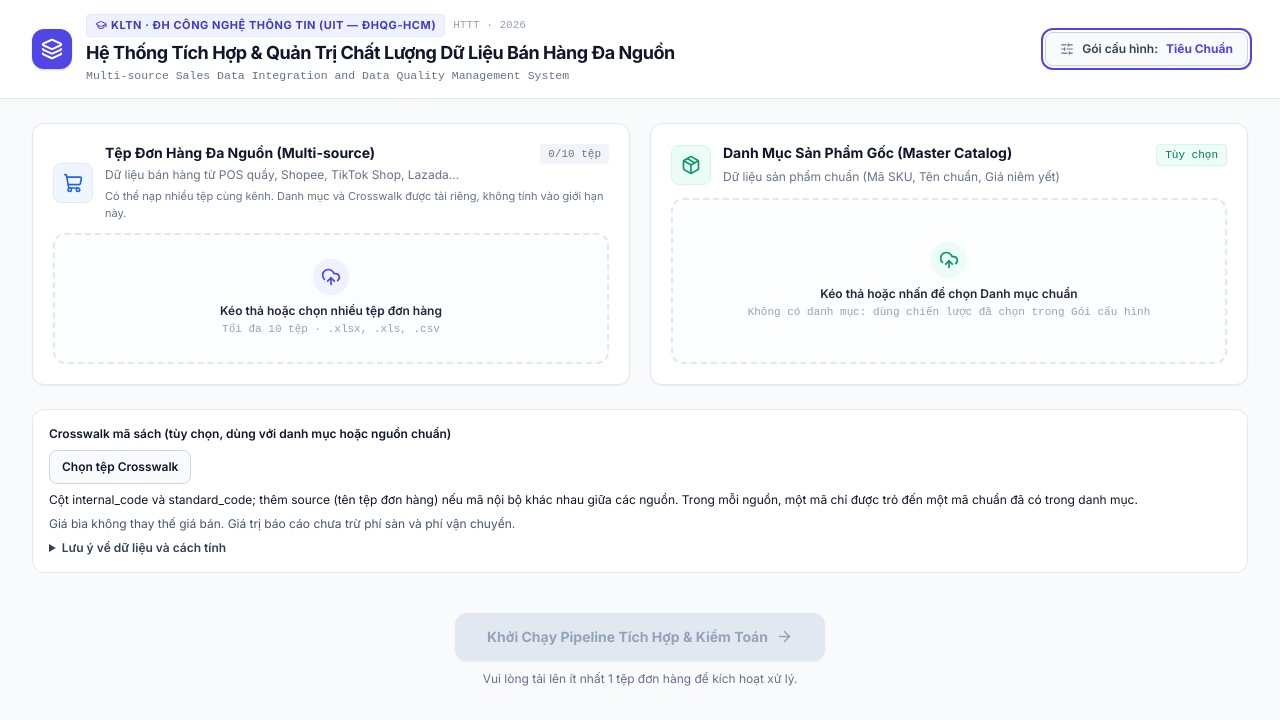
Test: Configuration UI interactions › traps keyboard focus, cancels with Escape, restores focus and body scroll
Click the button "Gói cấu hình: Tiêu Chuẩn": (1147, 49) [1045, 32, 1248, 66]
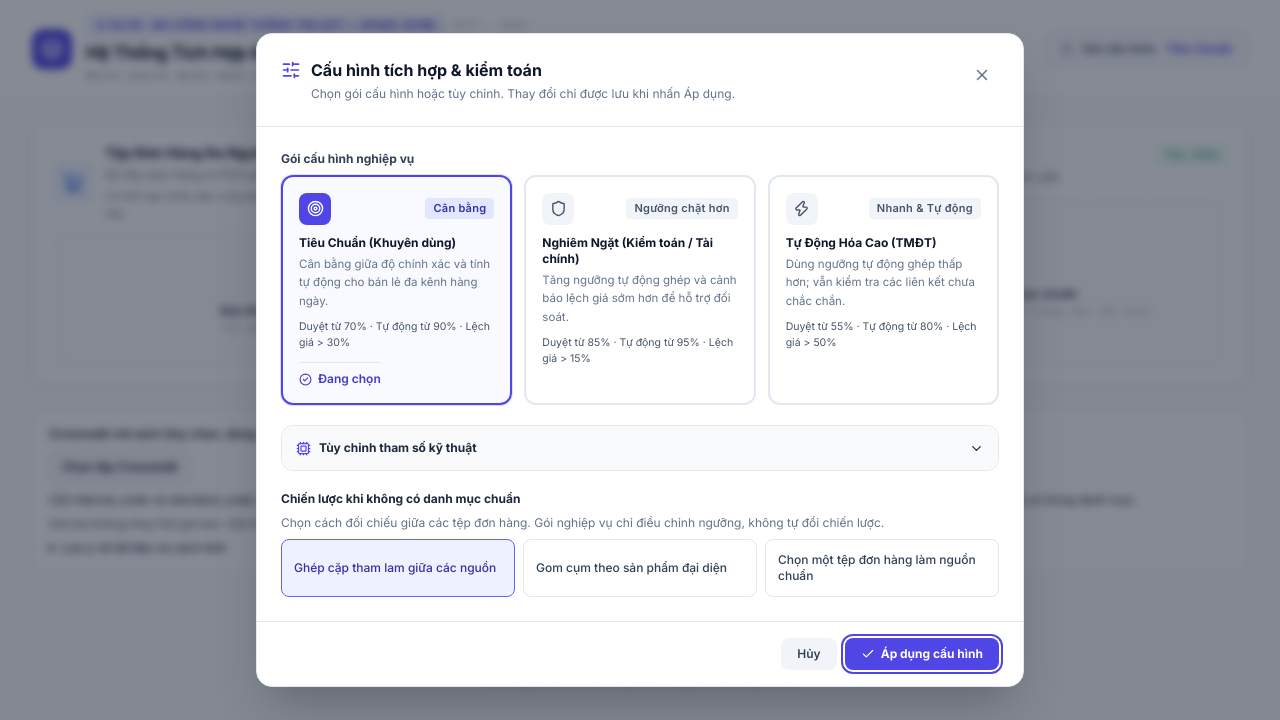
Now the button with aria-label "Nghiêm Ngặt (Kiểm toán / Tài chính)" is shown
Click the button with aria-label "Nghiêm Ngặt (Kiểm toán / Tài chính)": (640, 290) [524, 175, 756, 405]
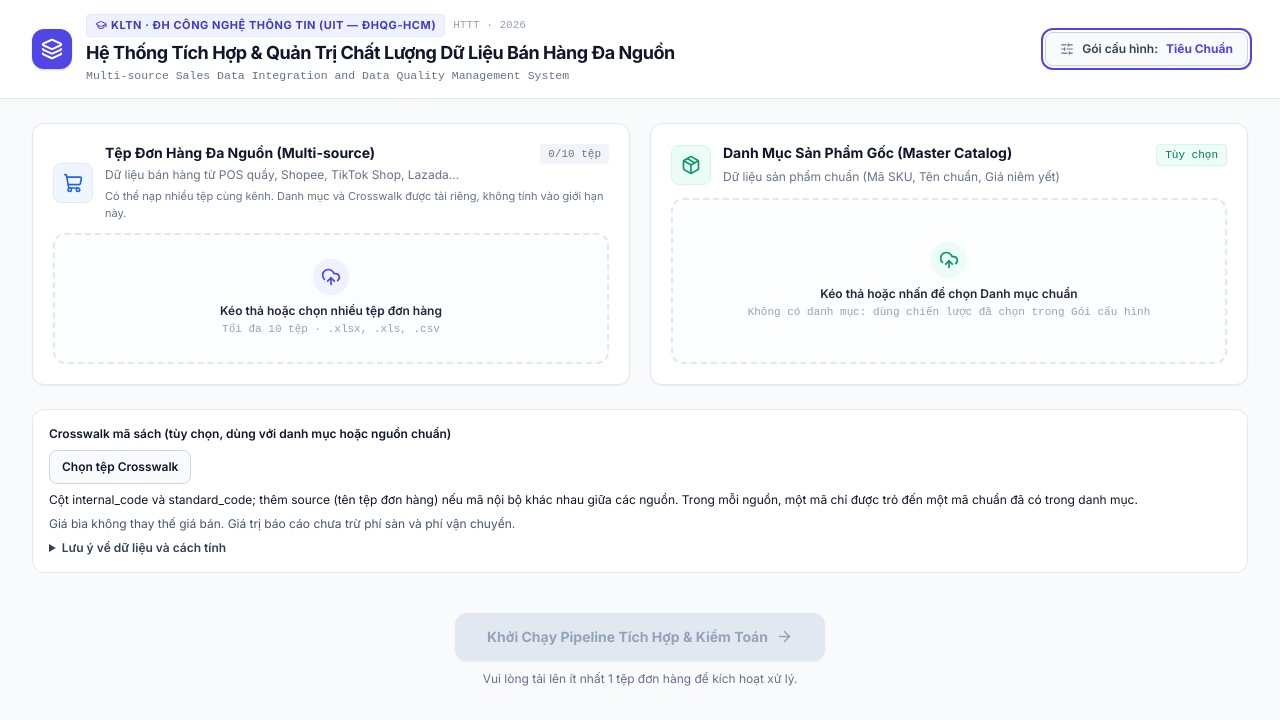
Expected: the button "Gói cấu hình: Tiêu Chuẩn" is shown, [1045, 32, 1248, 66]
Now the dialog is gone
